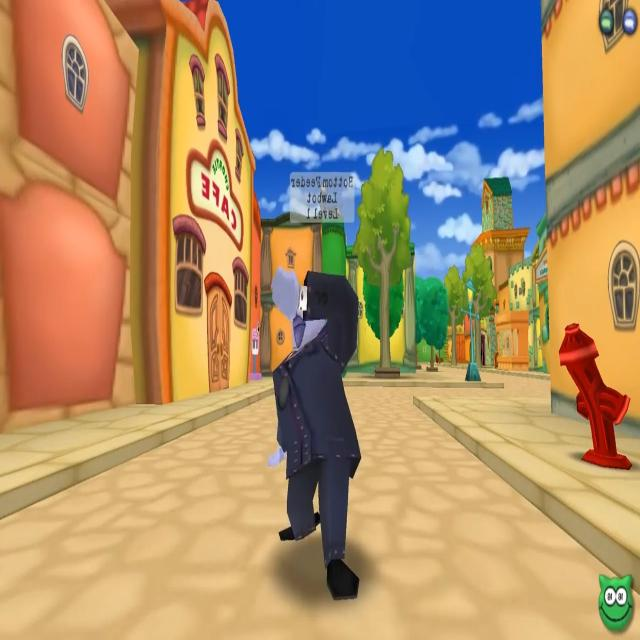bottomfeeder: (268, 168, 364, 608)
